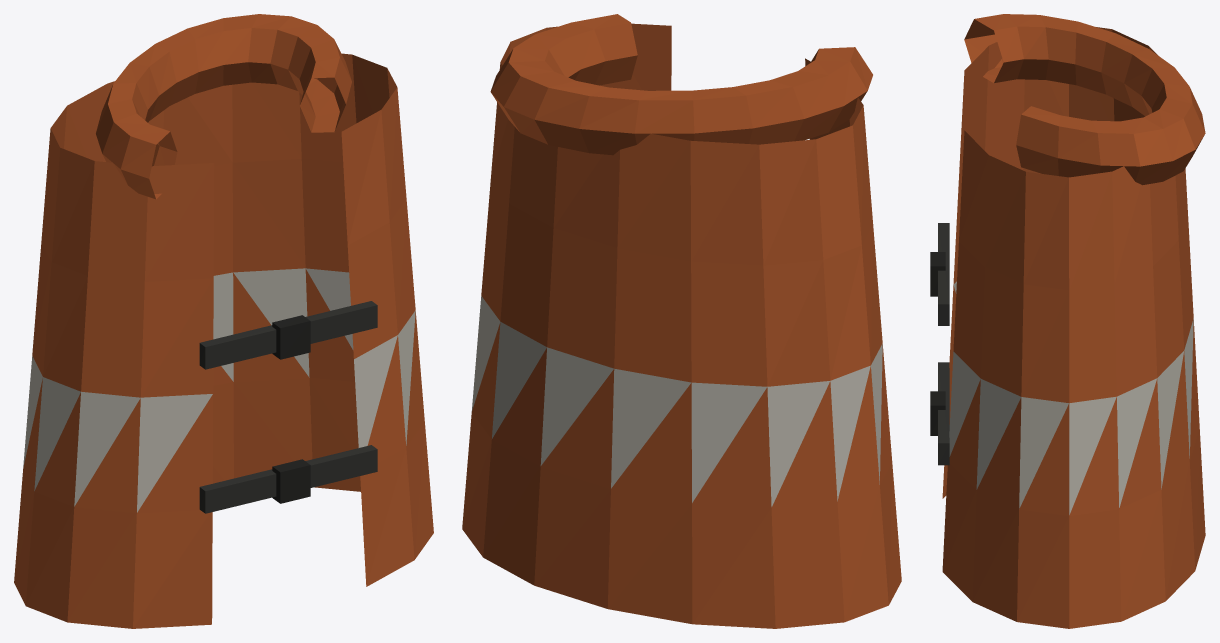
File: life-vest.glb
3 views of the same model, side by side, from view 1: azimuth 30°, elevation 25°; view 2: azimuth 150°, elevation 25°; view 3: azimuth 270°, elevation 25° (orthographic). The views are drawn at different scales.
Parts seen in each view (by area): view 1: Life_Vest_Fabric, Life_Vest_Plastic; view 2: Life_Vest_Fabric; view 3: Life_Vest_Fabric, Life_Vest_Plastic.
Boxes of the visible parts, x1,y1,x2,y2 form: Life_Vest_Fabric: (14, 14, 433, 628); Life_Vest_Plastic: (199, 301, 377, 513); Life_Vest_Fabric: (462, 14, 901, 628); Life_Vest_Fabric: (942, 14, 1205, 628); Life_Vest_Plastic: (930, 223, 949, 465).
Bounding box in the file's own units: 0.46 × 0.5303 × 0.2866.
